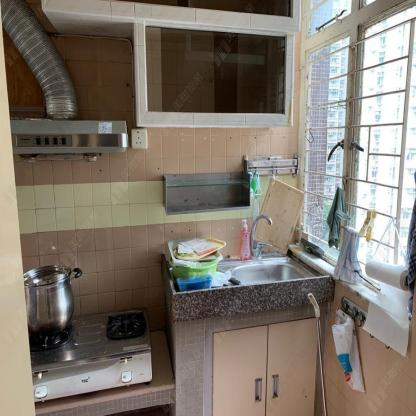Cupboard: (43, 8, 293, 127), (212, 319, 315, 415)
Exhaust Hood: (2, 0, 128, 163)
Faucet: (250, 210, 274, 259)
Sink: (235, 263, 301, 282)
Stove: (33, 311, 152, 397)
